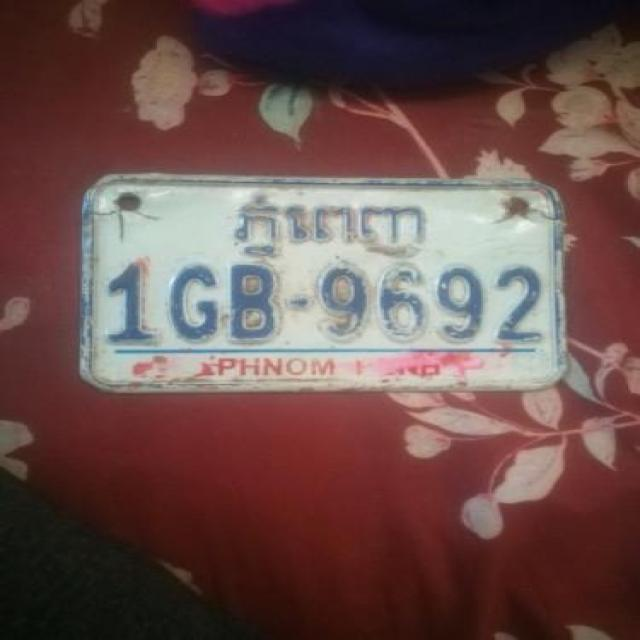Phnom_Penh: (234, 195, 425, 257)
